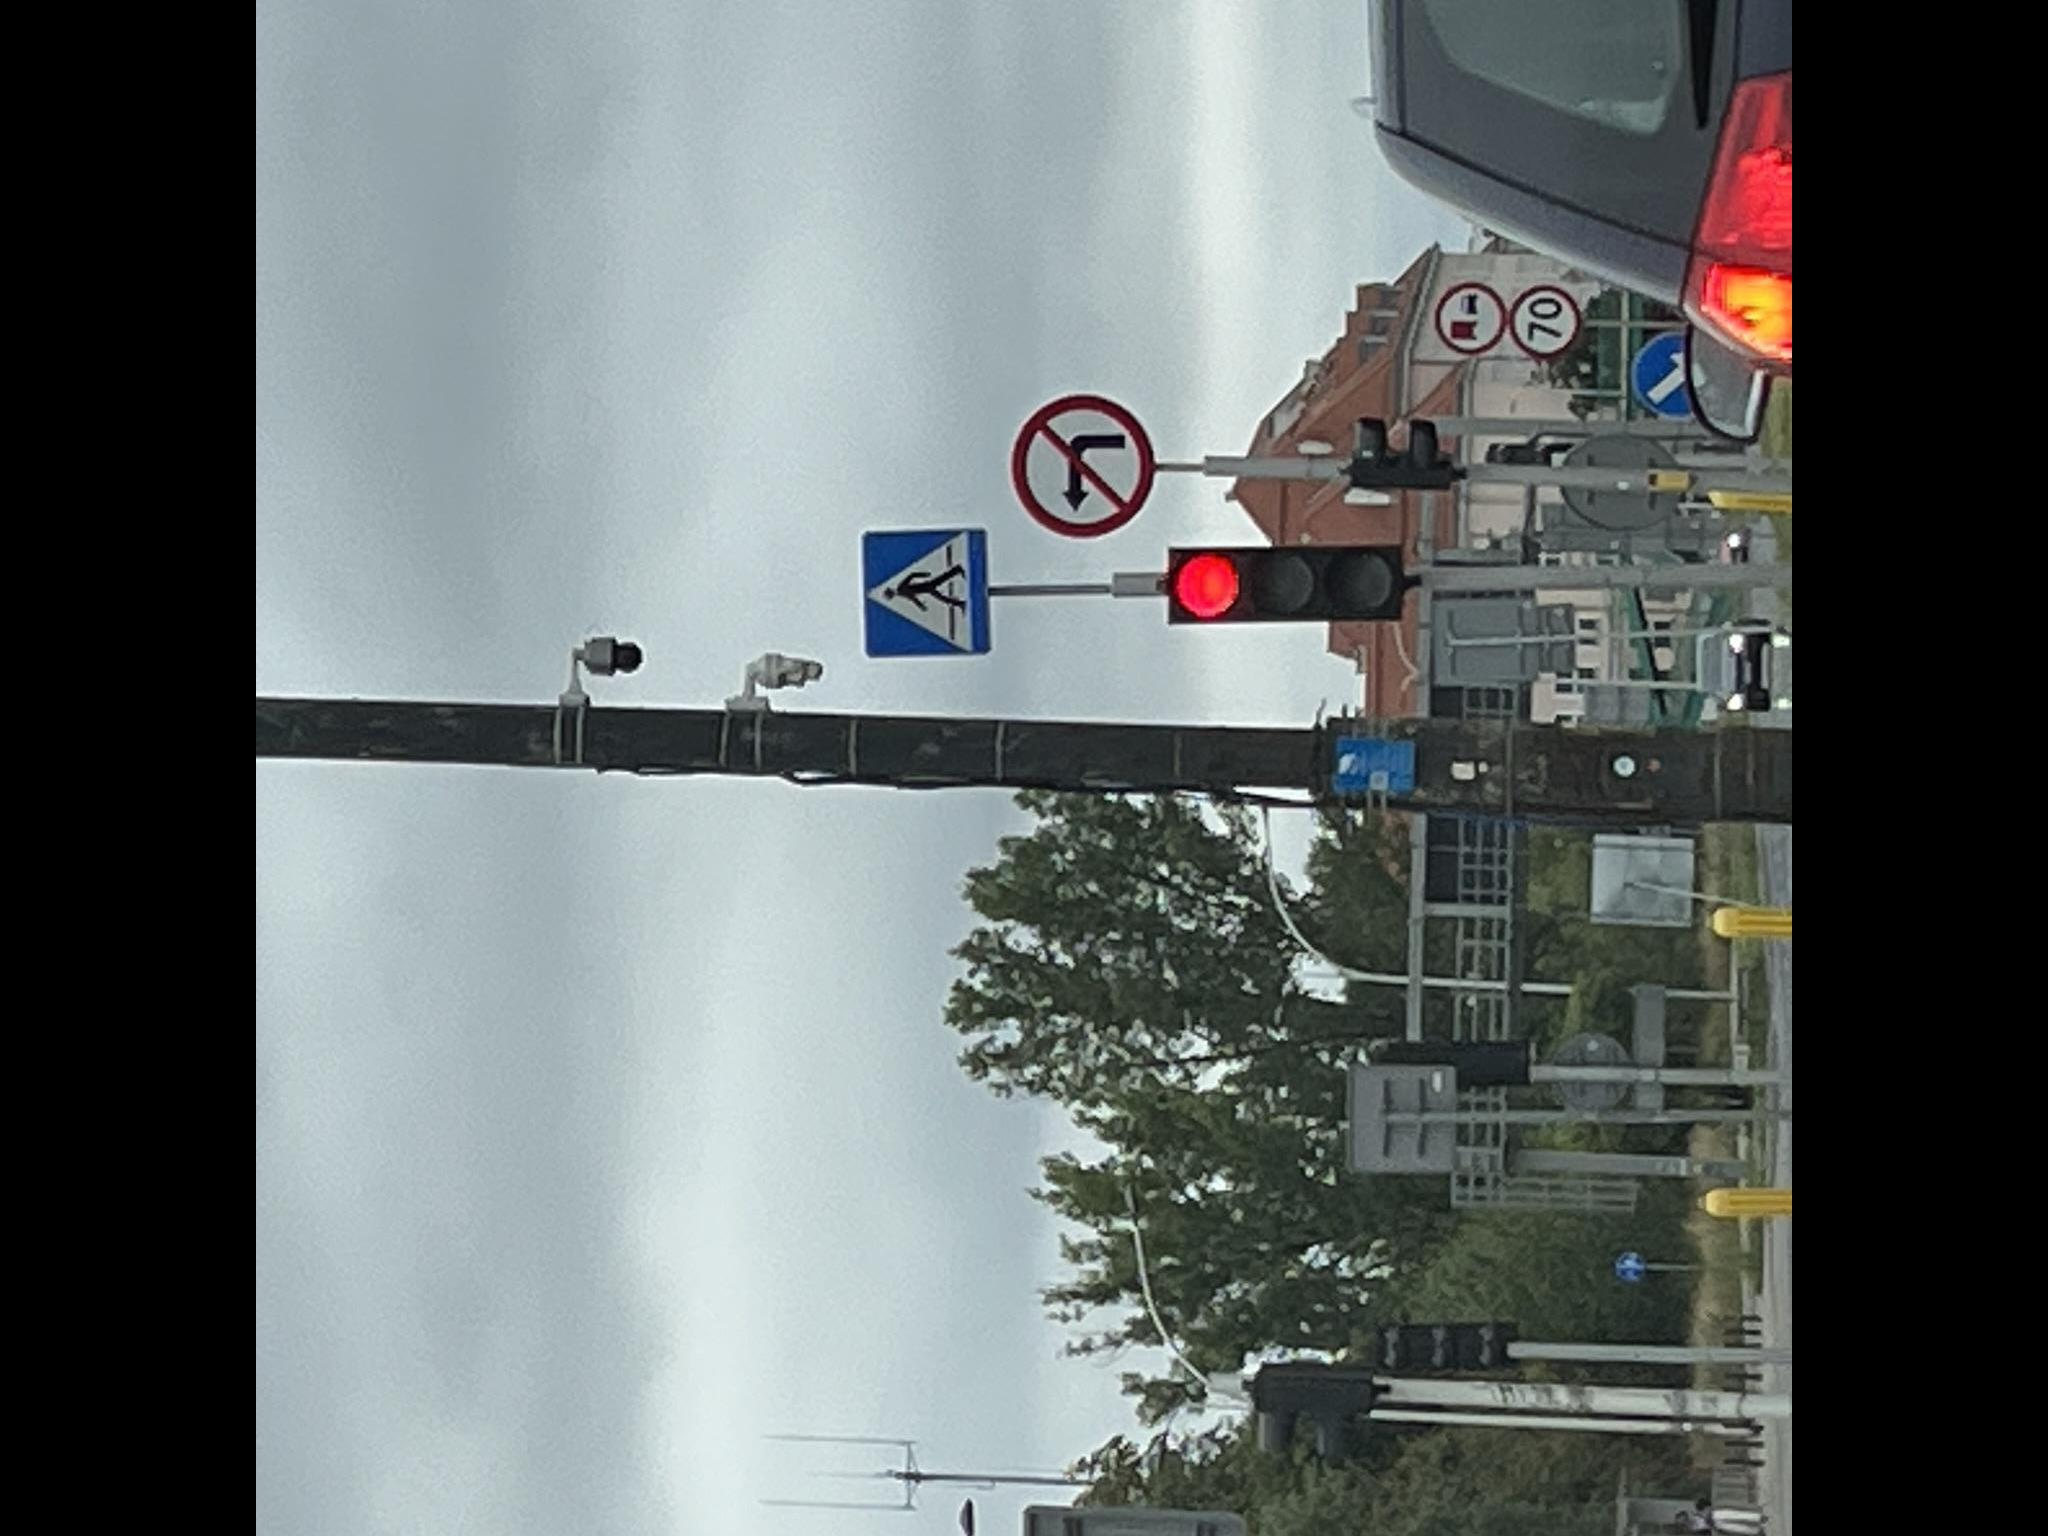information: (860, 523, 992, 658)
mandatory: (1630, 329, 1700, 419)
prohibitory: (1005, 389, 1156, 539), (1508, 282, 1585, 360), (1432, 279, 1508, 355)
